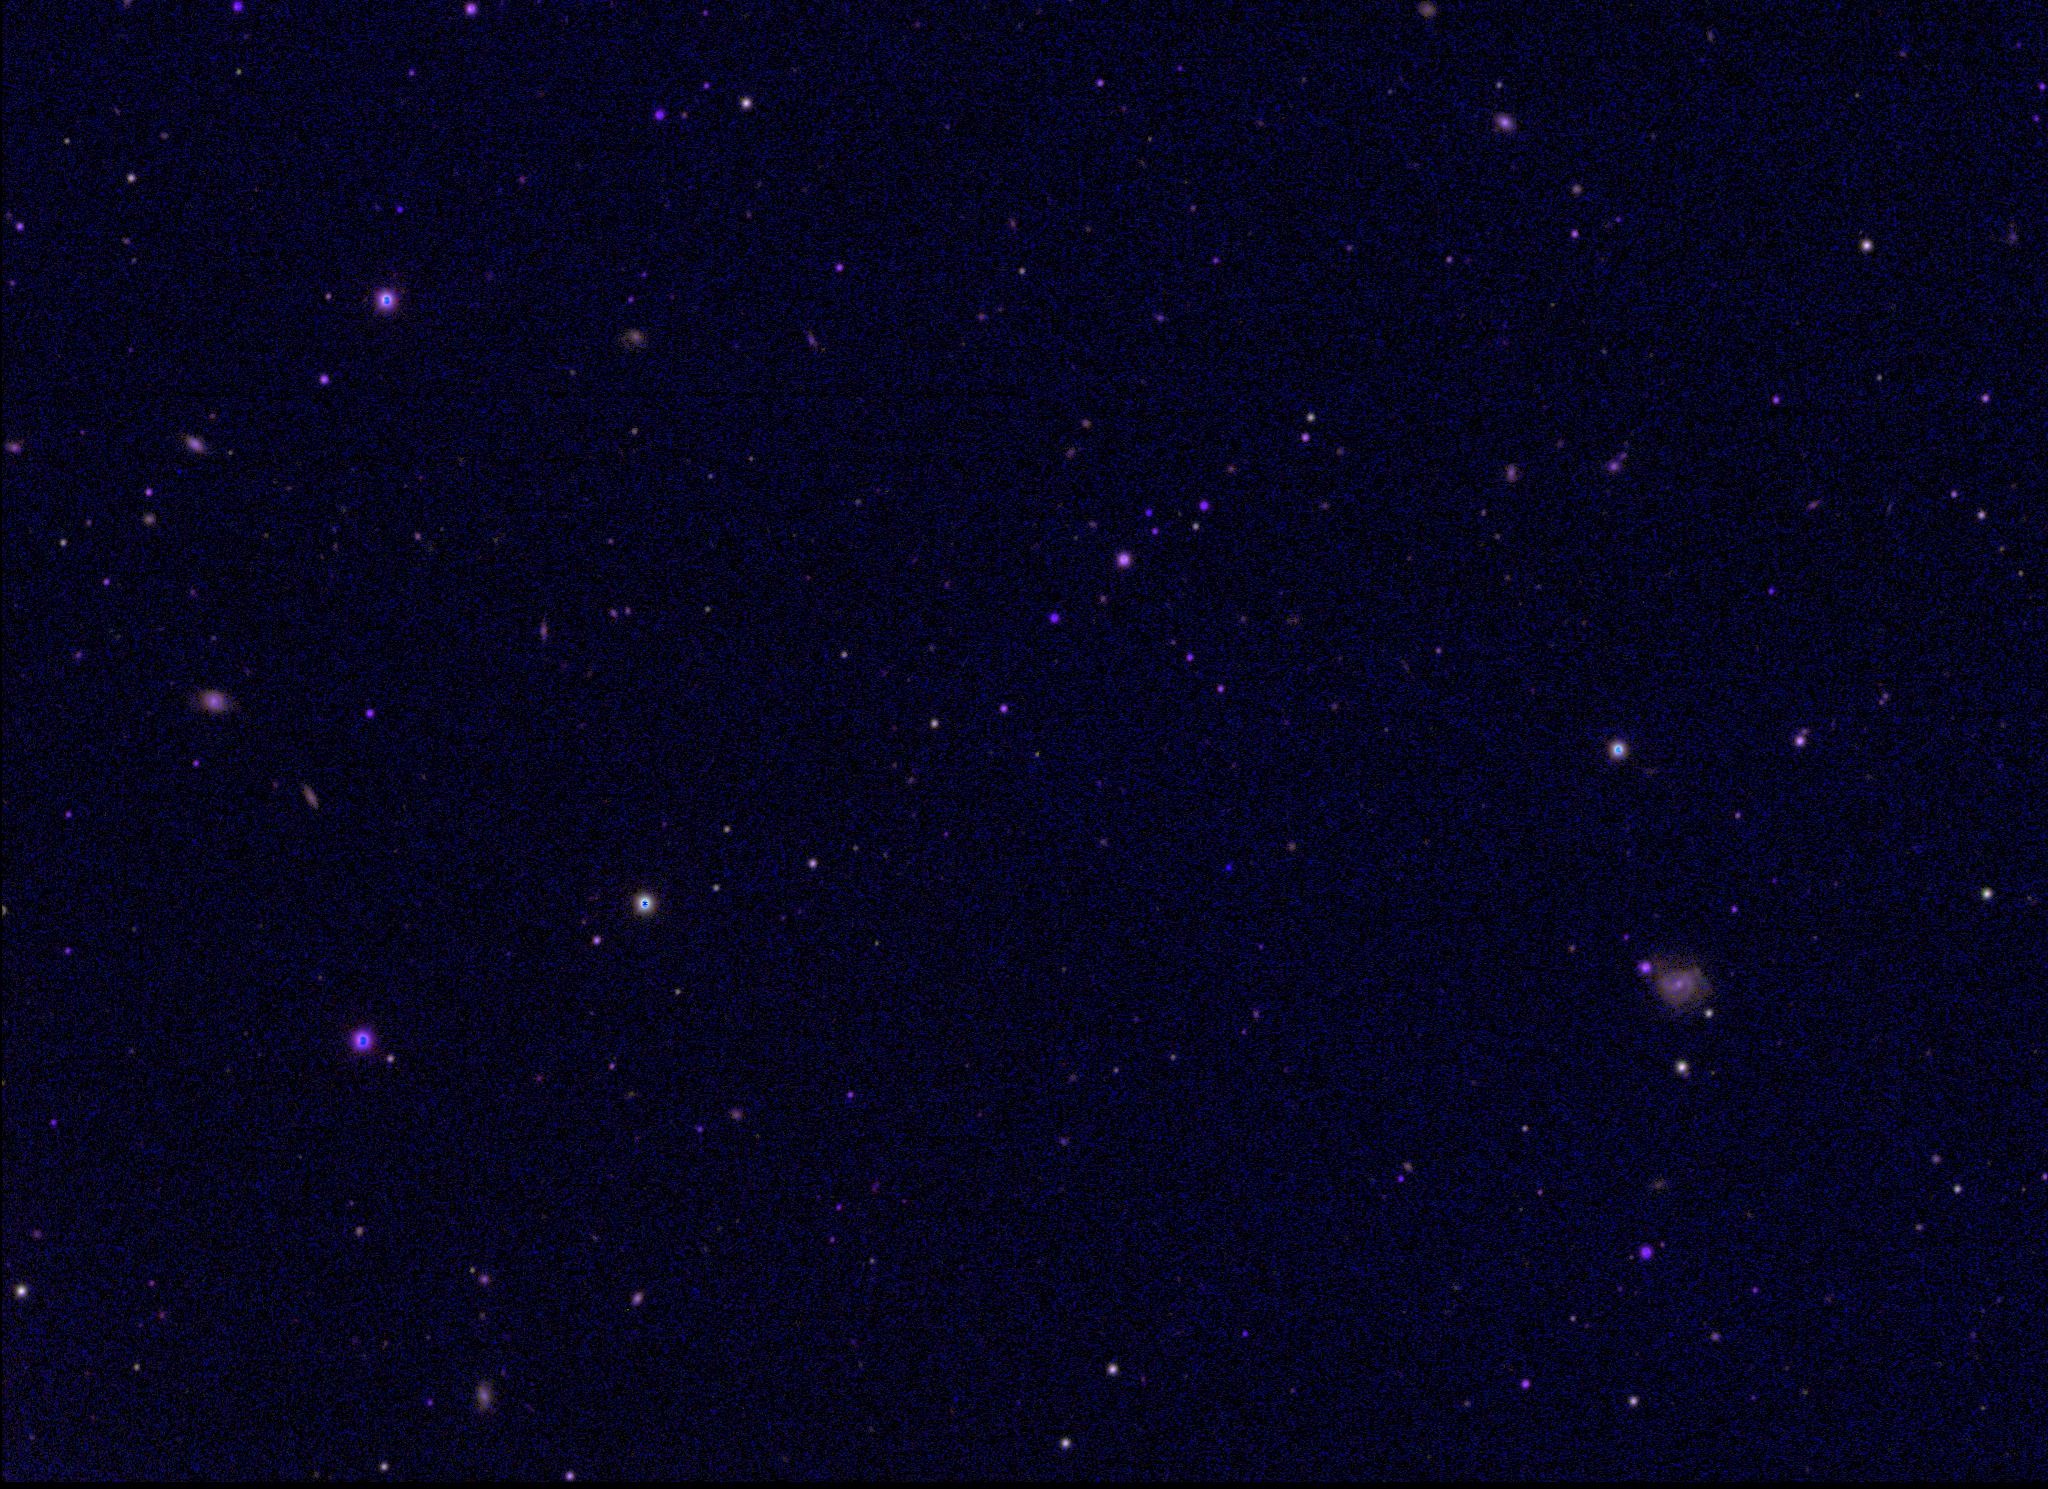L: (1223, 861, 1235, 875)
